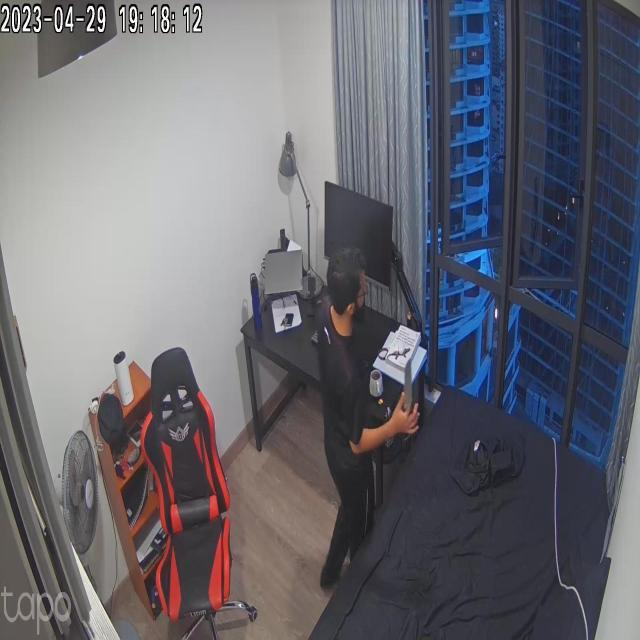Knife: (394, 360, 430, 426)
